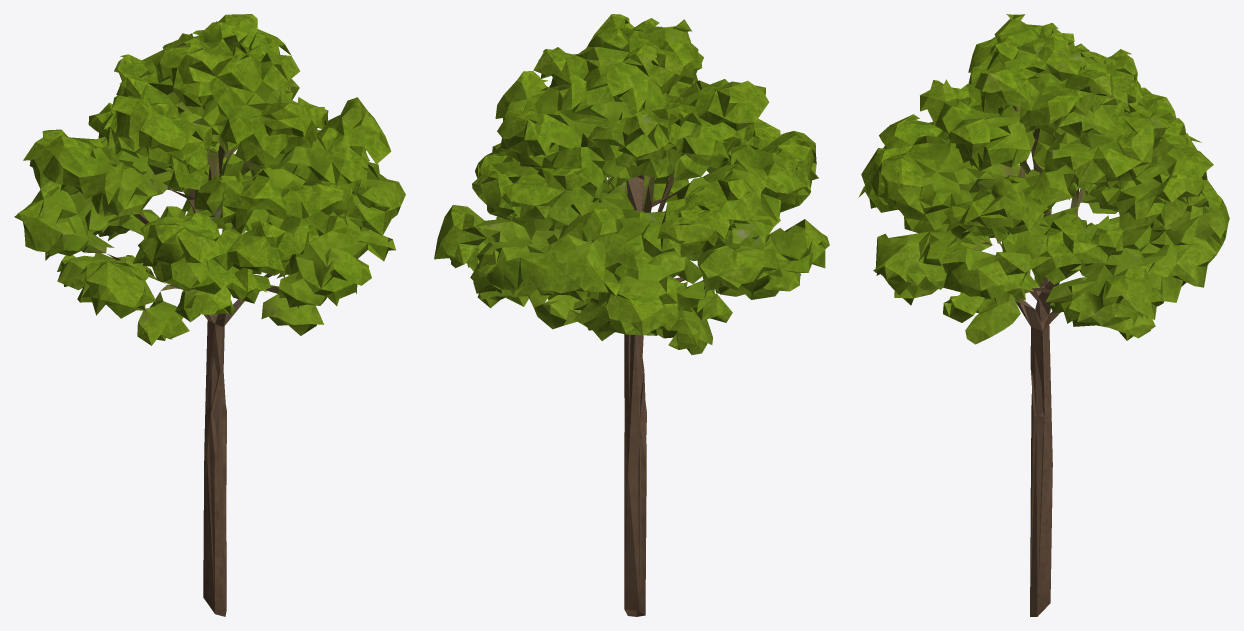
File: A05_Tree.fbx
3 views of the same model, side by side, from view 1: azimuth 30°, elevation 25°; view 2: azimuth 150°, elevation 25°; view 3: azimuth 270°, elevation 25° (orthographic).
Parts seen in each view (by area): view 1: Tree; view 2: Tree; view 3: Tree.
Boxes of the visible parts, box(x1,y1,x2,y2) form: Tree: box(14, 14, 405, 616); Tree: box(434, 14, 829, 616); Tree: box(858, 14, 1229, 616).
Size of the model in its own units: 600 by 1029 by 591.
1 material, 1 textured.
